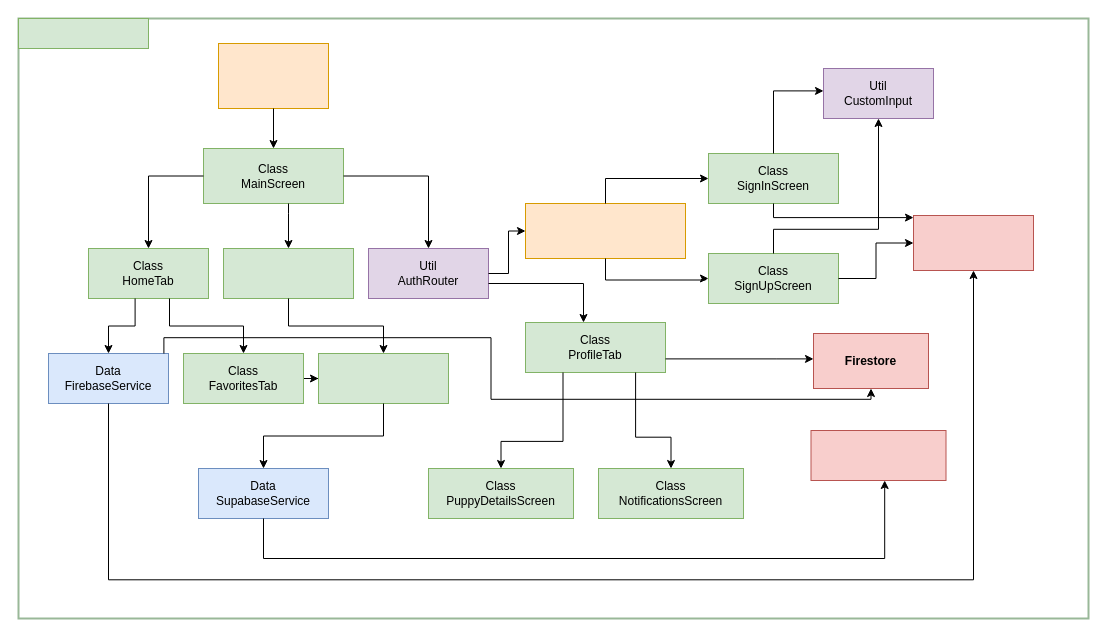
Image size: 1106x636. Some labels were removed from this diagram. Here are the shapes that lost their labels. From the top down, the centre of each, then its label:
At (83,33): "Architettura".
At (273,75): "File main".
At (605,230): "File AuthFlow".
At (973,242): "FirebaseAuth".
At (288,273): "Class AddPuppyTab".
At (383,378): "Class CreatePostScreen".
At (878,455): "SupabaseStorage".
